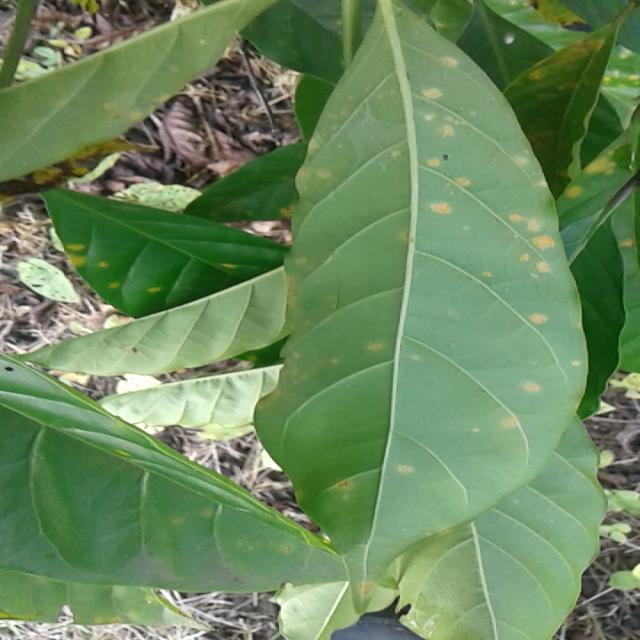Enfermedad-Roya: (252, 0, 588, 580)
